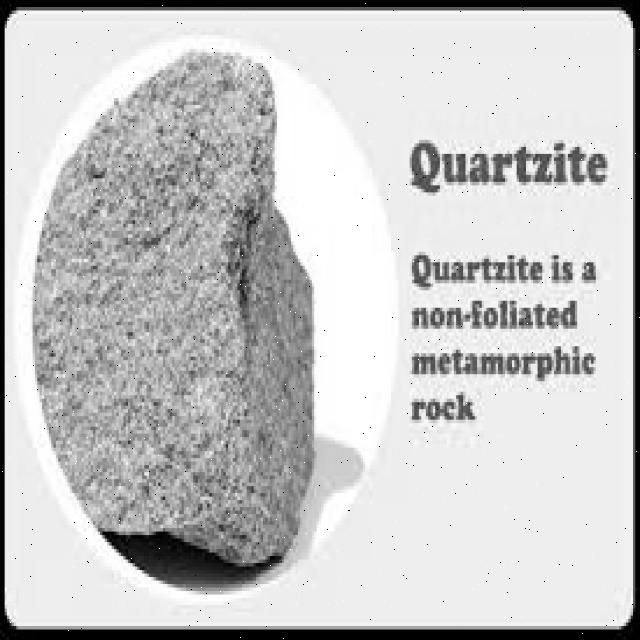Metamorphic: (32, 42, 330, 581)
